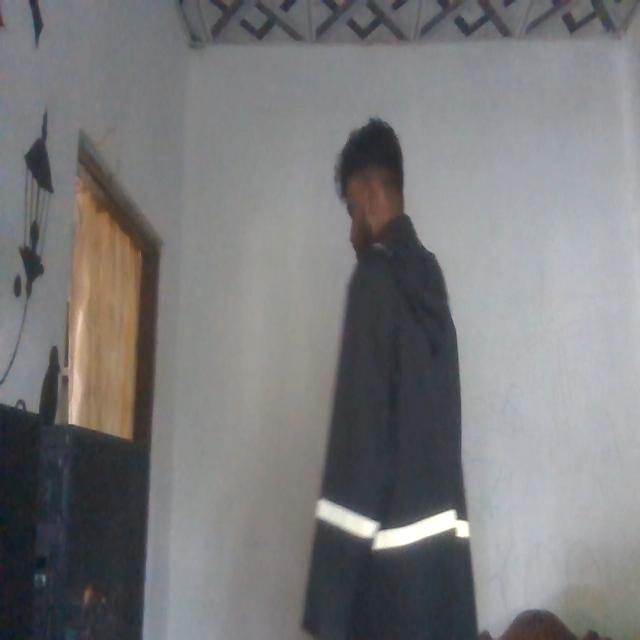Jacket_Wearer: (301, 228, 473, 640)
Person: (299, 121, 481, 640)
